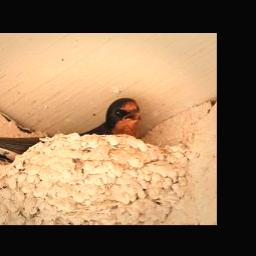Swallow: (0, 95, 143, 170)
